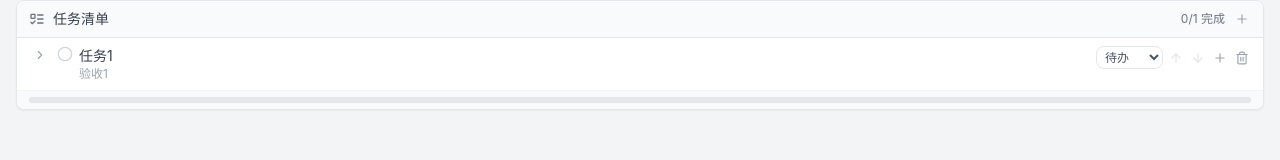
it: TaskListPanel › F7：写失败在面板头部可见（受控下拉弹回原值时不能看起来像「点了没反应」）
This screenshot has width=1280, height=160.
Select "进行中" in the dropdown named "状态" at (1130, 58), box top-left (1096, 46), bottom-right (1163, 69)
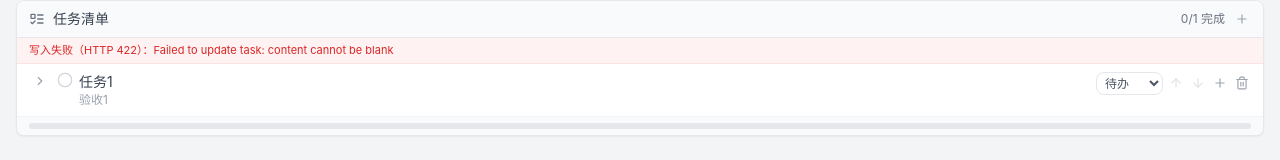
expect the text "422" is shown: met, box top-left (29, 43), bottom-right (394, 57)
expect the text "content cannot be blank" is shown: met, box top-left (29, 43), bottom-right (394, 57)
